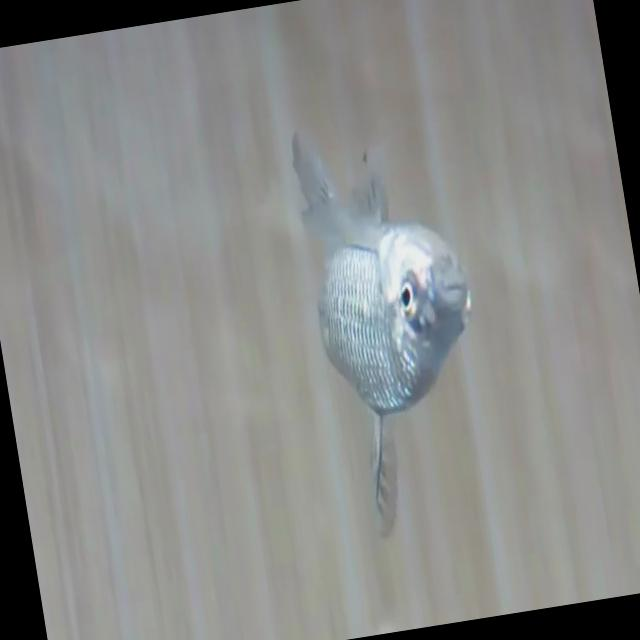Cakil Baligi: (280, 105, 508, 550)
